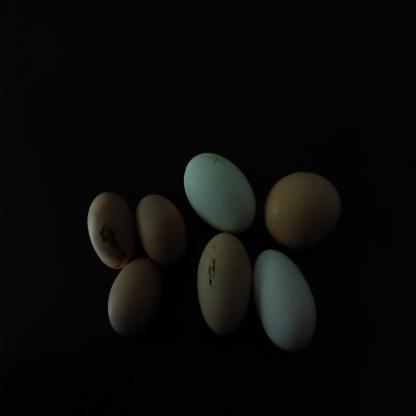egg: (254, 250, 317, 353), (183, 152, 258, 236), (264, 169, 344, 247), (197, 230, 254, 338), (106, 254, 160, 335), (87, 191, 139, 272), (137, 193, 191, 263)
